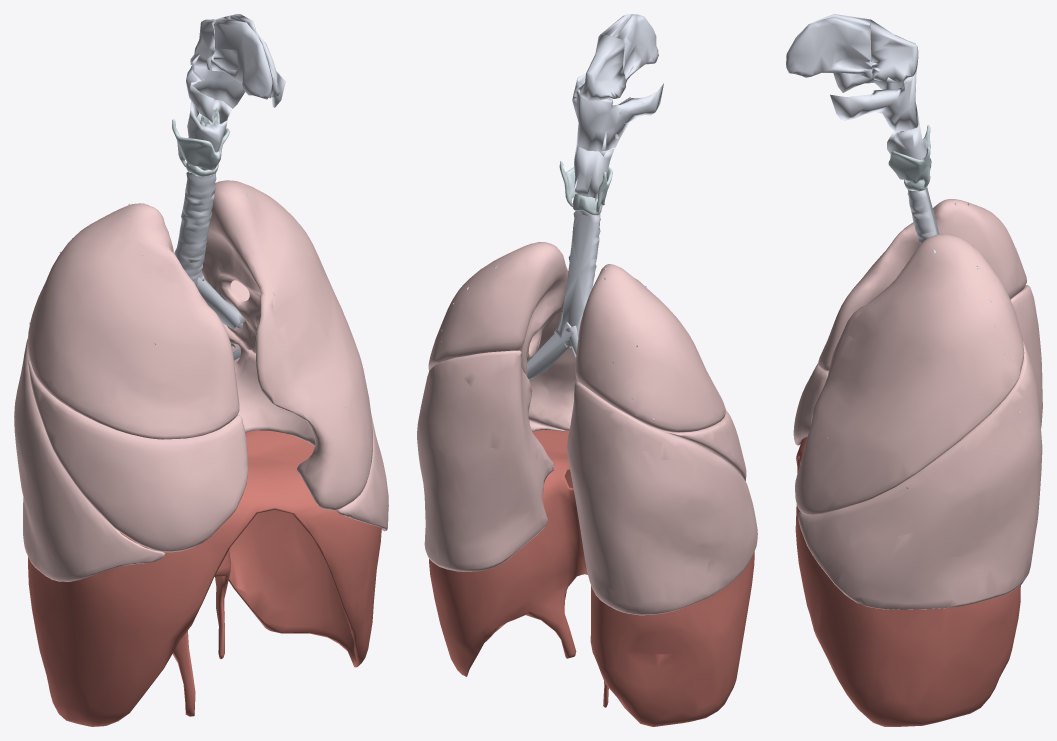
Rendered from astronaut_respiratory.glb.
The picture shows the model from 3 angles, left to right: view 1: azimuth 30°, elevation 25°; view 2: azimuth 150°, elevation 25°; view 3: azimuth 270°, elevation 25°; orthographic projection. The views are drawn at different scales.
Visible parts, largest first — view 1: MUSCLE_Diaphragm, ORG_Lung_R_SuperiorLobe, ORG_Lung_L_SuperiorLobe, ORG_Lung_R_MiddleLobe, ORG_Lung_R_InferiorLobe, ORG_Lung_L_InferiorLobe, SYS_Pharynx, SYS_NasalCavity, SYS_Trachea, SYS_Larynx, SYS_Bronchi_L; view 2: MUSCLE_Diaphragm, ORG_Lung_R_InferiorLobe, ORG_Lung_L_InferiorLobe, ORG_Lung_R_SuperiorLobe, ORG_Lung_L_SuperiorLobe, SYS_Pharynx, SYS_Trachea, SYS_NasalCavity, ORG_Lung_R_MiddleLobe, SYS_Larynx, SYS_Bronchi_L; view 3: ORG_Lung_L_SuperiorLobe, ORG_Lung_L_InferiorLobe, MUSCLE_Diaphragm, ORG_Lung_R_SuperiorLobe, SYS_Pharynx, SYS_NasalCavity, ORG_Lung_R_InferiorLobe, SYS_Larynx, ORG_Lung_R_MiddleLobe, SYS_Trachea.
Part boxes in pixels (x1,y1,x2,y2): MUSCLE_Diaphragm: (28,430,381,726); ORG_Lung_R_SuperiorLobe: (27,203,239,439); ORG_Lung_L_SuperiorLobe: (202,180,372,510); ORG_Lung_R_MiddleLobe: (28,359,248,552); ORG_Lung_R_InferiorLobe: (14,338,165,581); ORG_Lung_L_InferiorLobe: (203,276,388,531); SYS_Pharynx: (186,15,285,177); SYS_NasalCavity: (211,14,279,99); SYS_Trachea: (174,171,216,285); SYS_Larynx: (172,107,229,176); SYS_Bronchi_L: (196,193,274,360); MUSCLE_Diaphragm: (429,430,754,726); ORG_Lung_R_InferiorLobe: (567,381,757,615); ORG_Lung_L_InferiorLobe: (417,350,564,571); ORG_Lung_R_SuperiorLobe: (575,264,725,432); ORG_Lung_L_SuperiorLobe: (428,242,576,430); SYS_Pharynx: (572,34,663,215); SYS_Trachea: (554,210,600,348); SYS_NasalCavity: (600,14,658,83); ORG_Lung_R_MiddleLobe: (662,410,746,480); SYS_Larynx: (559,161,612,215); SYS_Bronchi_L: (441,266,573,379); ORG_Lung_L_SuperiorLobe: (795,234,1024,514); ORG_Lung_L_InferiorLobe: (798,341,1042,609); MUSCLE_Diaphragm: (795,436,1020,726); ORG_Lung_R_SuperiorLobe: (818,199,1026,371); SYS_Pharynx: (830,19,931,191); SYS_NasalCavity: (786,14,872,79); ORG_Lung_R_InferiorLobe: (1010,284,1042,427); SYS_Larynx: (888,125,930,190); ORG_Lung_R_MiddleLobe: (793,363,828,445); SYS_Trachea: (907,188,939,244).
Size of the model in its own units: 0.2672 by 0.5686 by 0.196.
